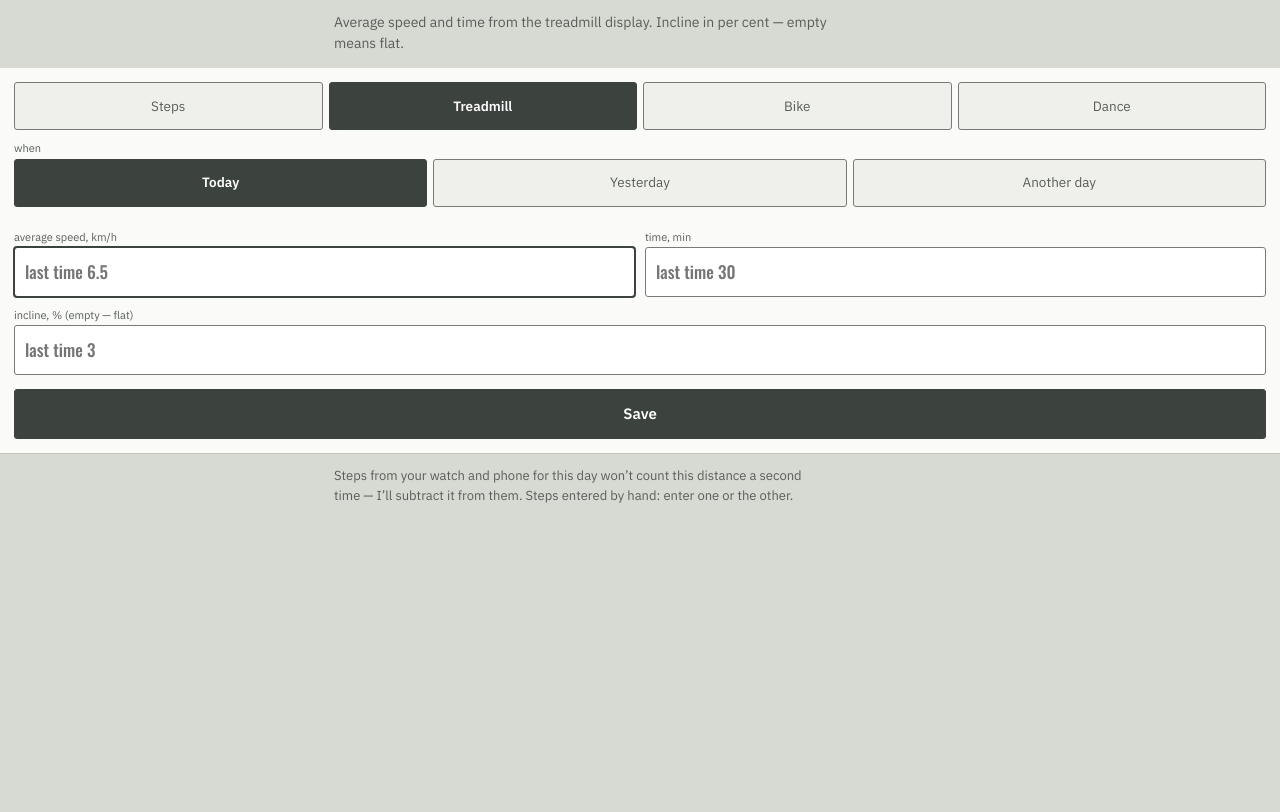
Scenario: steps & cardio in English › the treadmill form says what the treadmill shows
The width and height of the screenshot is (1280, 812).
Expected: the text "Average speed and time from the treadmill display" is shown, [334,13,827,52]
Type "6" into the field labelled "average speed, km/h" at (324, 272), box [14,247,635,296]
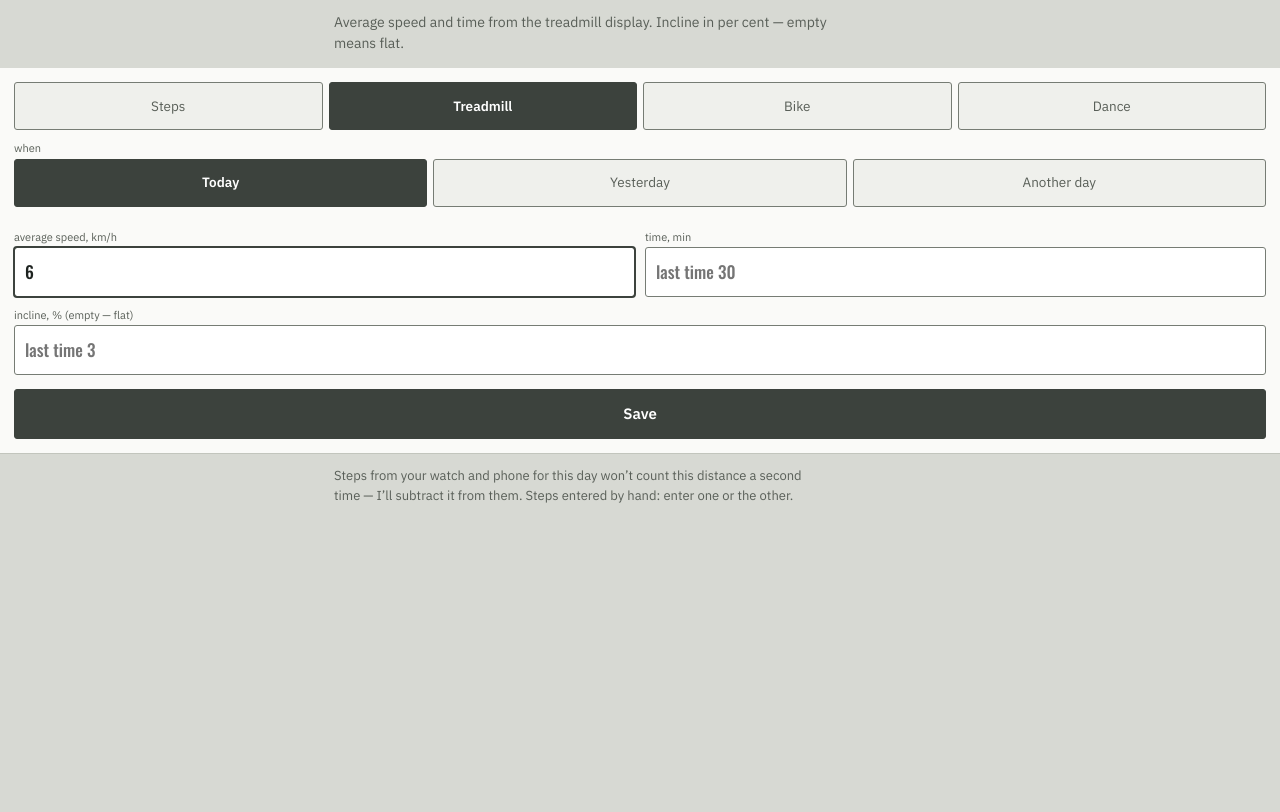
Type "30" into the number field labelled "time, min" at (956, 272), box [645,247,1266,296]
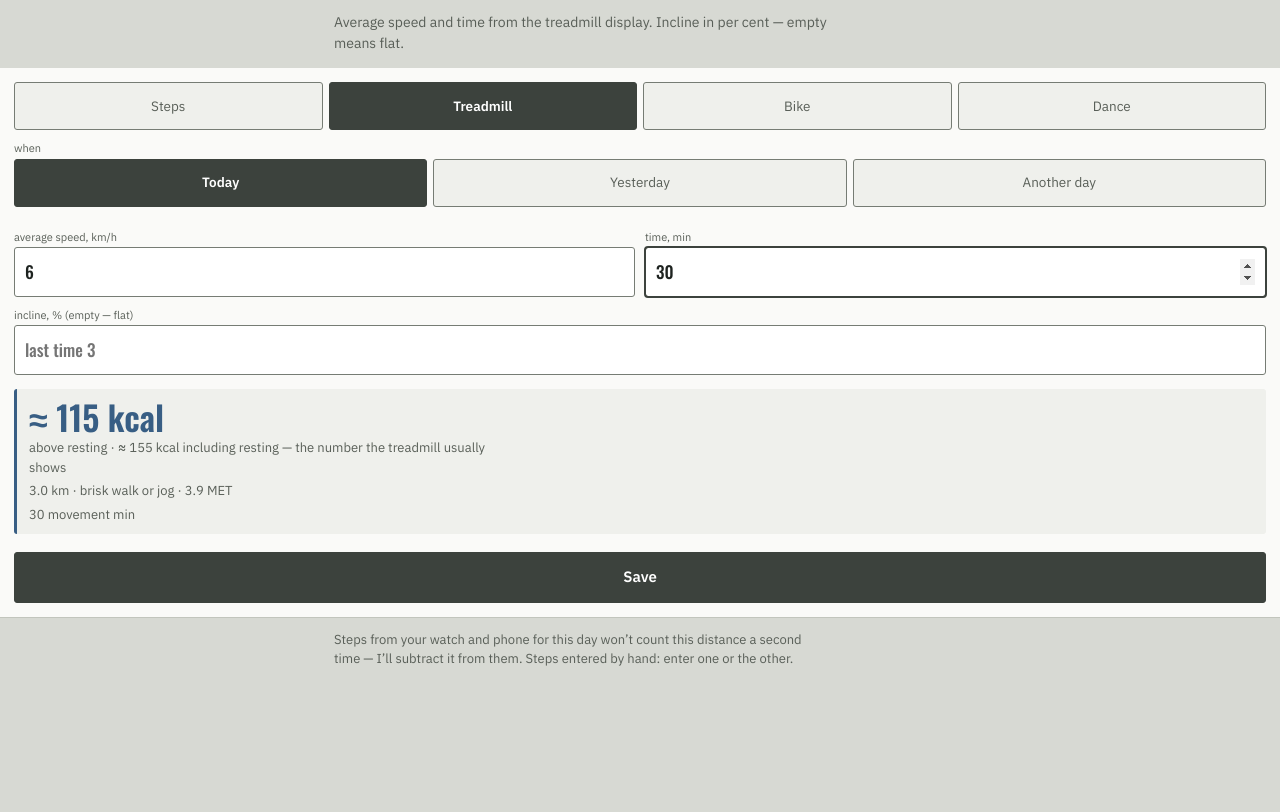
Expected: the text "3.0 km · brisk walk or jog · 3.9 MET" is shown, [29,482,232,499]
